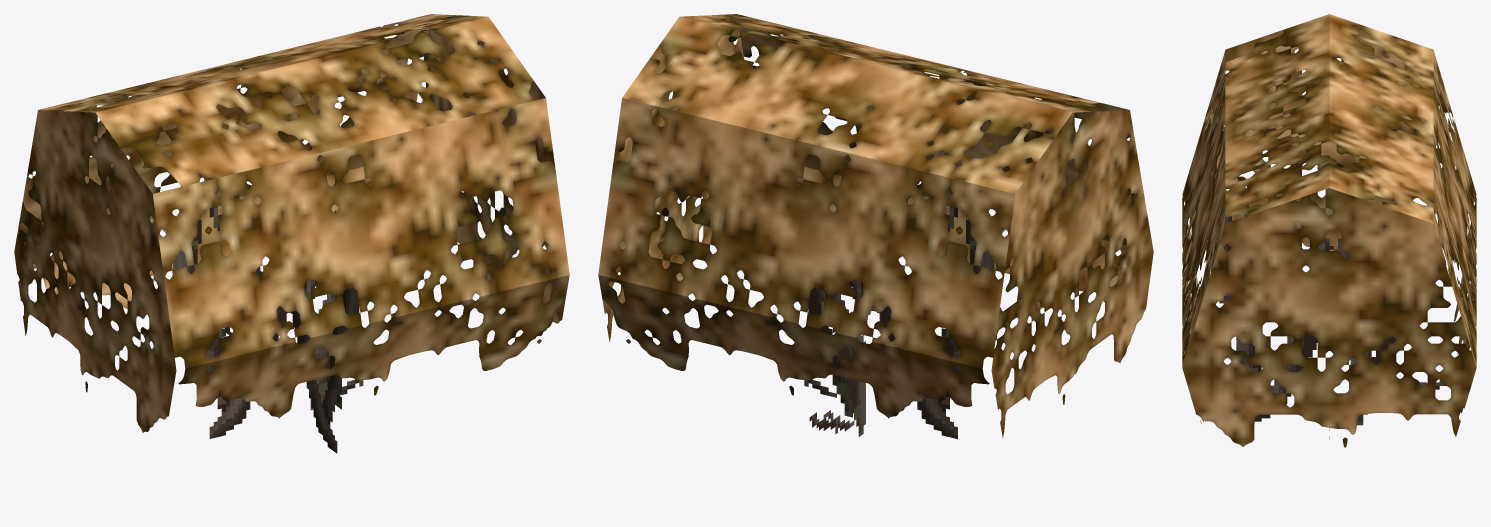
Rendered from bush_long_half_roots_autumn.fbx.
3 views of the same model, side by side, from view 1: azimuth 30°, elevation 25°; view 2: azimuth 150°, elevation 25°; view 3: azimuth 270°, elevation 25° (orthographic). The views are drawn at different scales.
Visible parts, largest first — view 1: bush_long_half_roots_autumn; view 2: bush_long_half_roots_autumn; view 3: bush_long_half_roots_autumn.
Boxes of the visible parts, x1,y1,x2,y2 form: bush_long_half_roots_autumn: (14,14,569,453); bush_long_half_roots_autumn: (598,14,1153,439); bush_long_half_roots_autumn: (1182,14,1476,447).
Bounding box in the file's own units: 101 × 87.65 × 71.91.
Materials: 2 (2 with a texture image).
